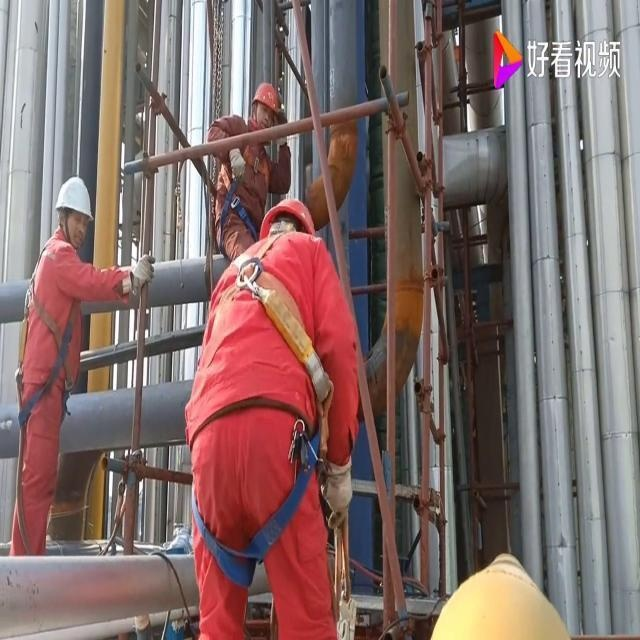Arnes_seguridad: (13, 230, 82, 440), (210, 225, 305, 344), (215, 115, 273, 248)
